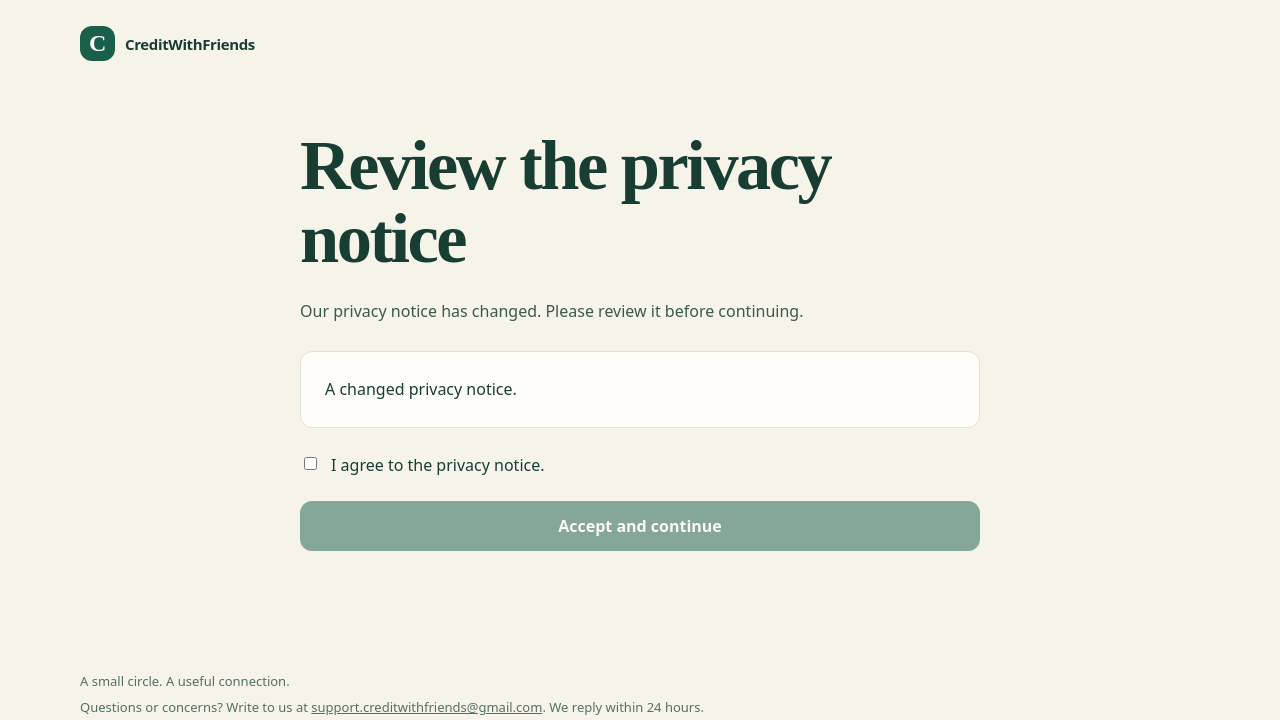
Test: notice acceptance requires an explicit choice after the current text loads
Expected: the text "A changed privacy notice." is shown, [300,351,980,428]
Expected: the button "Accept and continue" is disabled, [300,501,980,551]
Click the checkbox labelled "I agree to the privacy notice.".
click(310, 464)  # box [304,457,317,470]
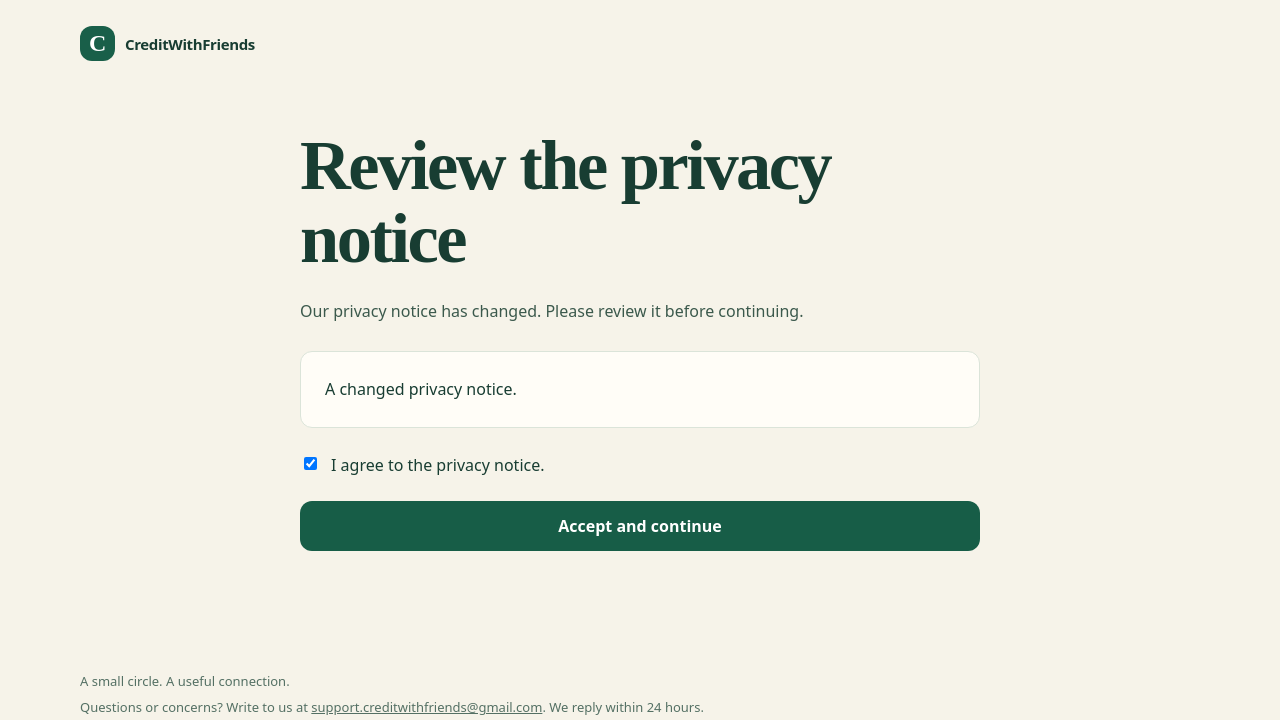
Result: the button "Accept and continue" is enabled at [300,501,980,551]
